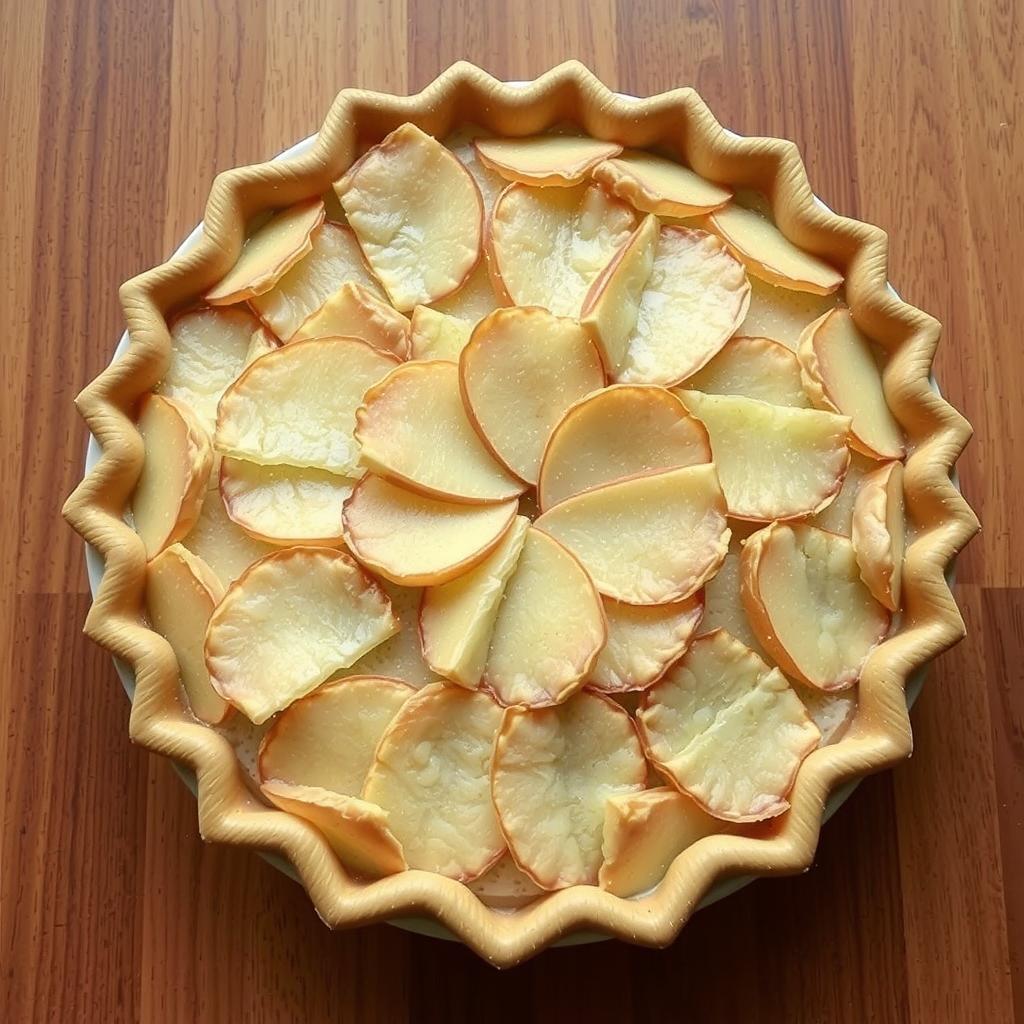pie: (61, 53, 983, 979)
